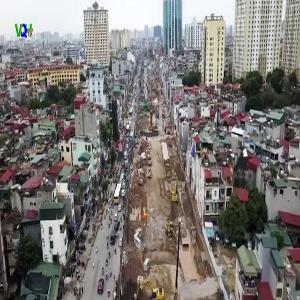drone: (217, 135, 279, 197)
